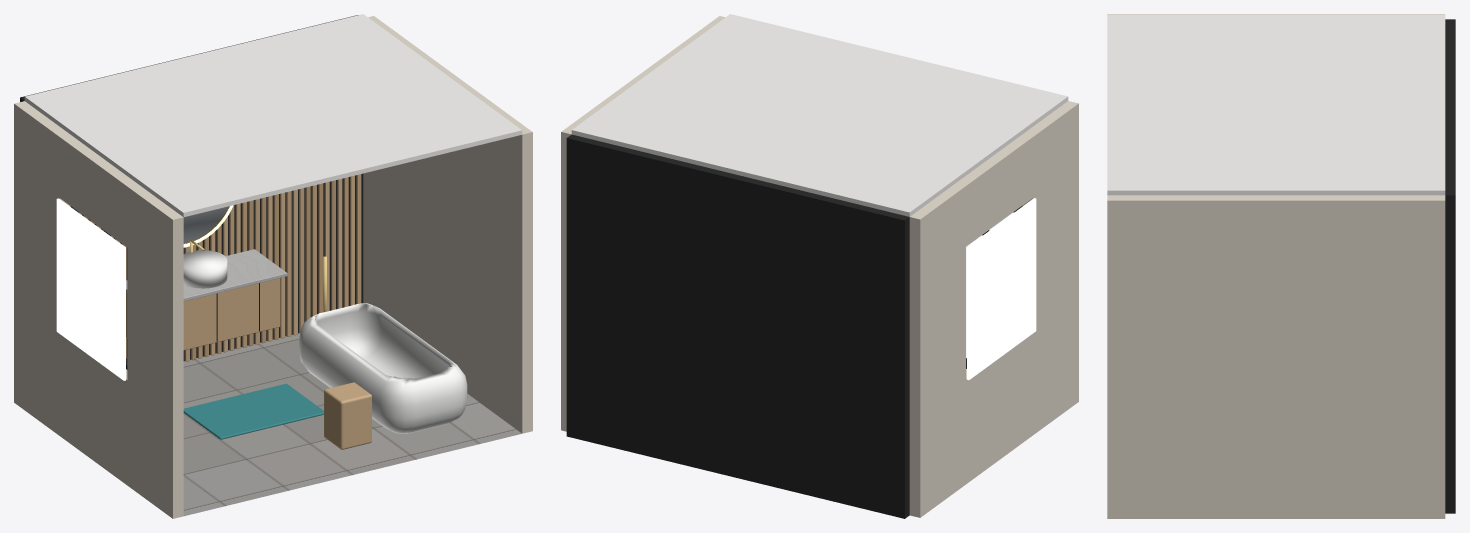
The model's file is bathroom_pilot.glb.
The picture shows the model from 3 angles, left to right: view 1: azimuth 30°, elevation 25°; view 2: azimuth 150°, elevation 25°; view 3: azimuth 270°, elevation 25°; orthographic projection. The views are drawn at different scales.
Visible parts, largest first — view 1: Ceiling, Wall Right, Floor, Wall Left Low, Fluted Oak Wall, Tub Outer, Wall Left High, Window Sky, Wall Left Front, Wall Left Back, Back Wall Backing, Vanity Cabinet (+5 smaller); view 2: Back Wall Backing, Ceiling, Wall Left Low, Wall Left High, Window Sky, Wall Left Back, Wall Left Front, Wall Right; view 3: Wall Right, Ceiling, Back Wall Backing.
Part boxes in pixels (x1=…): Ceiling: x1=24, y1=14, x2=522, y2=217; Wall Right: x1=363, y1=16, x2=532, y2=433; Floor: x1=183, y1=333, x2=521, y2=516; Wall Left Low: x1=14, y1=297, x2=183, y2=518; Fluted Oak Wall: x1=79, y1=174, x2=361, y2=361; Tub Outer: x1=299, y1=303, x2=467, y2=433; Wall Left High: x1=14, y1=101, x2=183, y2=280; Window Sky: x1=56, y1=198, x2=125, y2=380; Wall Left Front: x1=127, y1=247, x2=183, y2=413; Wall Left Back: x1=14, y1=165, x2=70, y2=328; Back Wall Backing: x1=20, y1=15, x2=363, y2=360; Vanity Cabinet: x1=126, y1=278, x2=280, y2=350; Back Wall Backing: x1=566, y1=134, x2=909, y2=518; Ceiling: x1=571, y1=14, x2=1068, y2=216; Wall Left Low: x1=909, y1=297, x2=1078, y2=517; Wall Left High: x1=909, y1=101, x2=1078, y2=280; Window Sky: x1=967, y1=198, x2=1036, y2=379; Wall Left Back: x1=909, y1=247, x2=965, y2=412; Wall Left Front: x1=1022, y1=164, x2=1078, y2=327; Wall Right: x1=561, y1=16, x2=724, y2=431; Wall Right: x1=1107, y1=195, x2=1445, y2=518; Ceiling: x1=1107, y1=14, x2=1445, y2=195; Back Wall Backing: x1=1445, y1=19, x2=1455, y2=513.
Size of the model in its own units: 3.43 by 2.74 by 2.68.
Materials: 14 (2 with a texture image).
